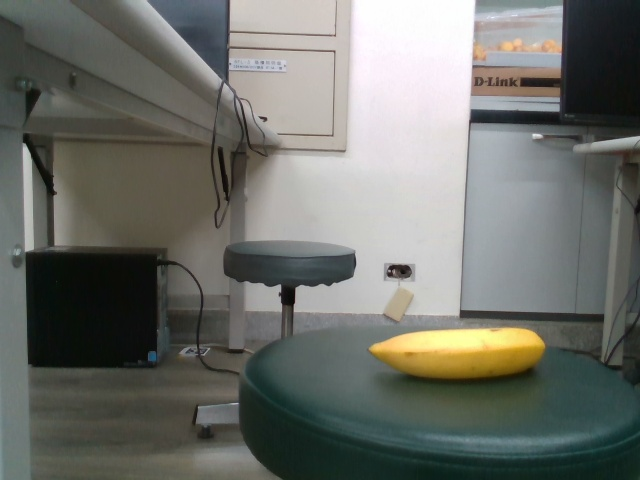banana: (367, 324, 550, 376)
